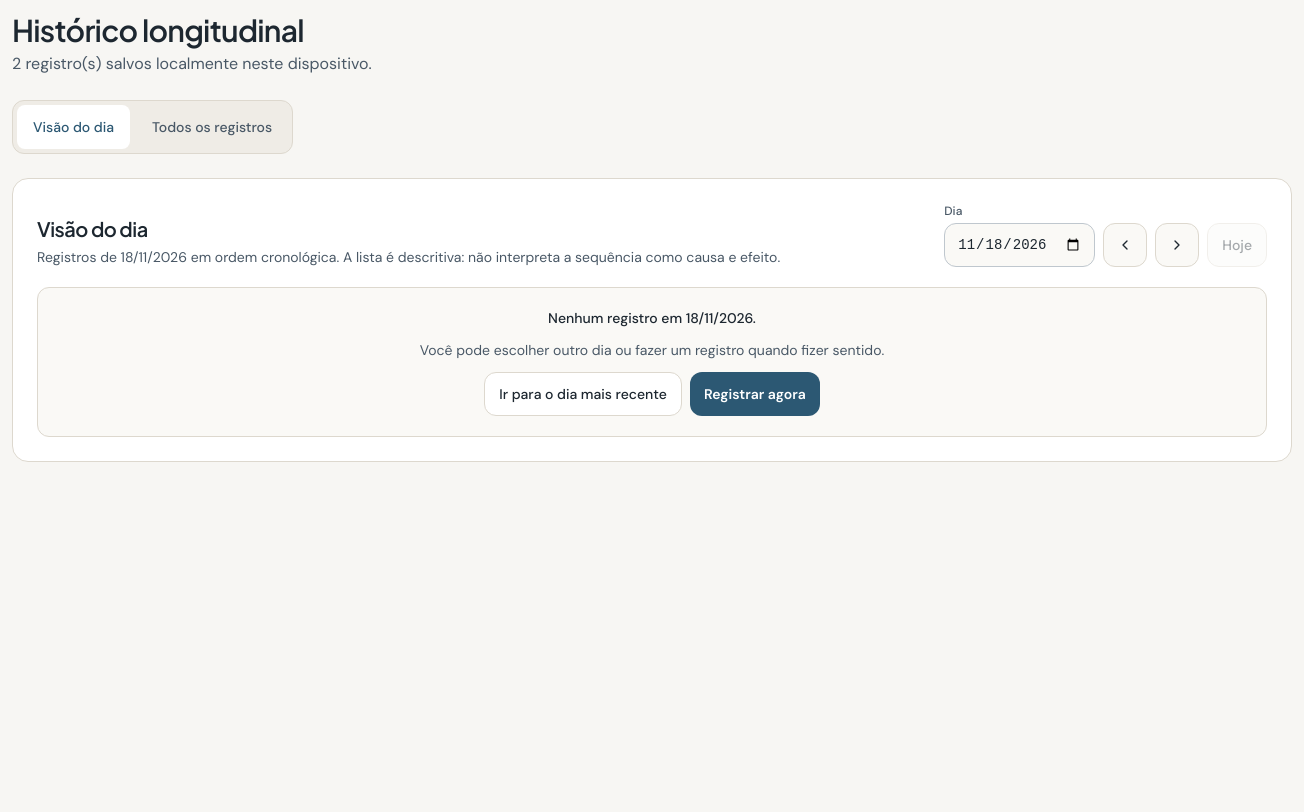
Test: HistoryView — semântica de ação e impulso › filtra somente impulsos que não viraram ação
Click the button "Todos os registros". click: x=212, y=127
box: [136,105,288,149]
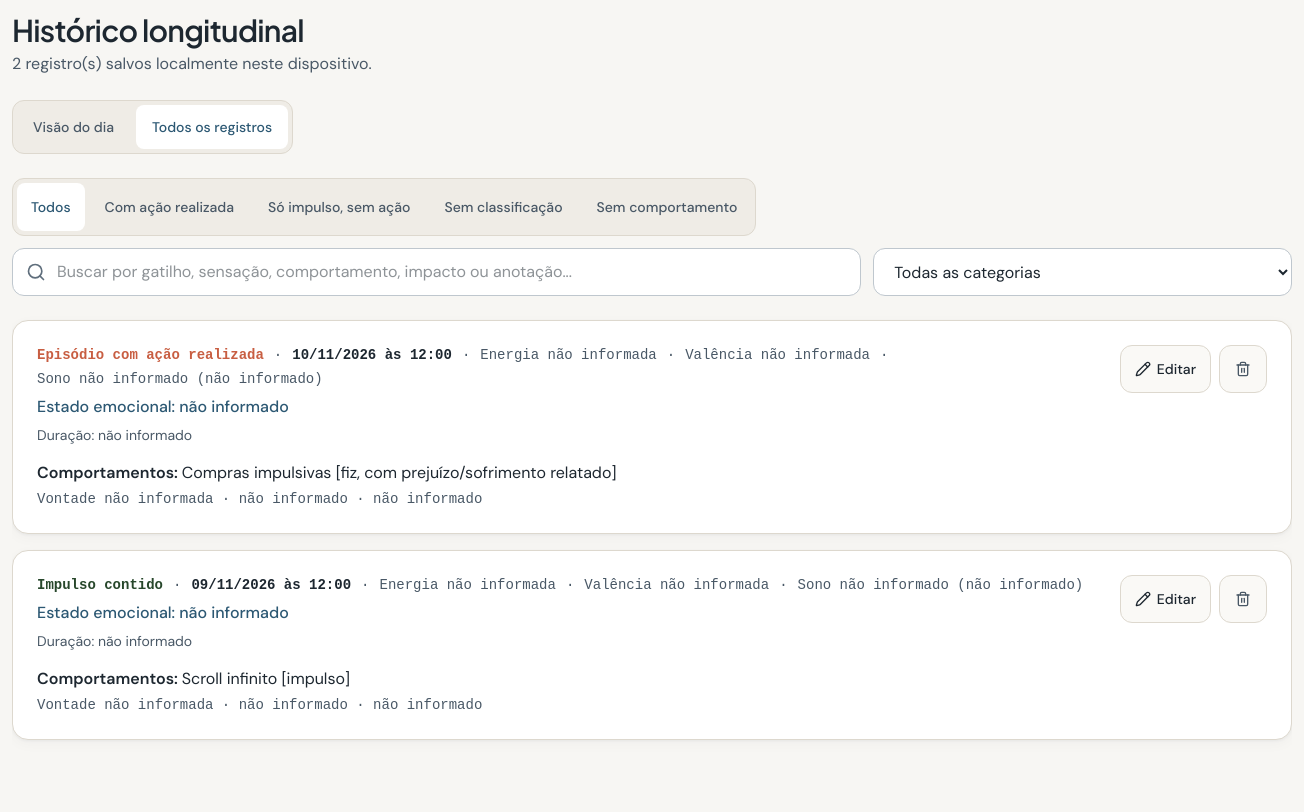
Click the button "Só impulso, sem ação". click: x=339, y=207
box: [254,183,424,231]
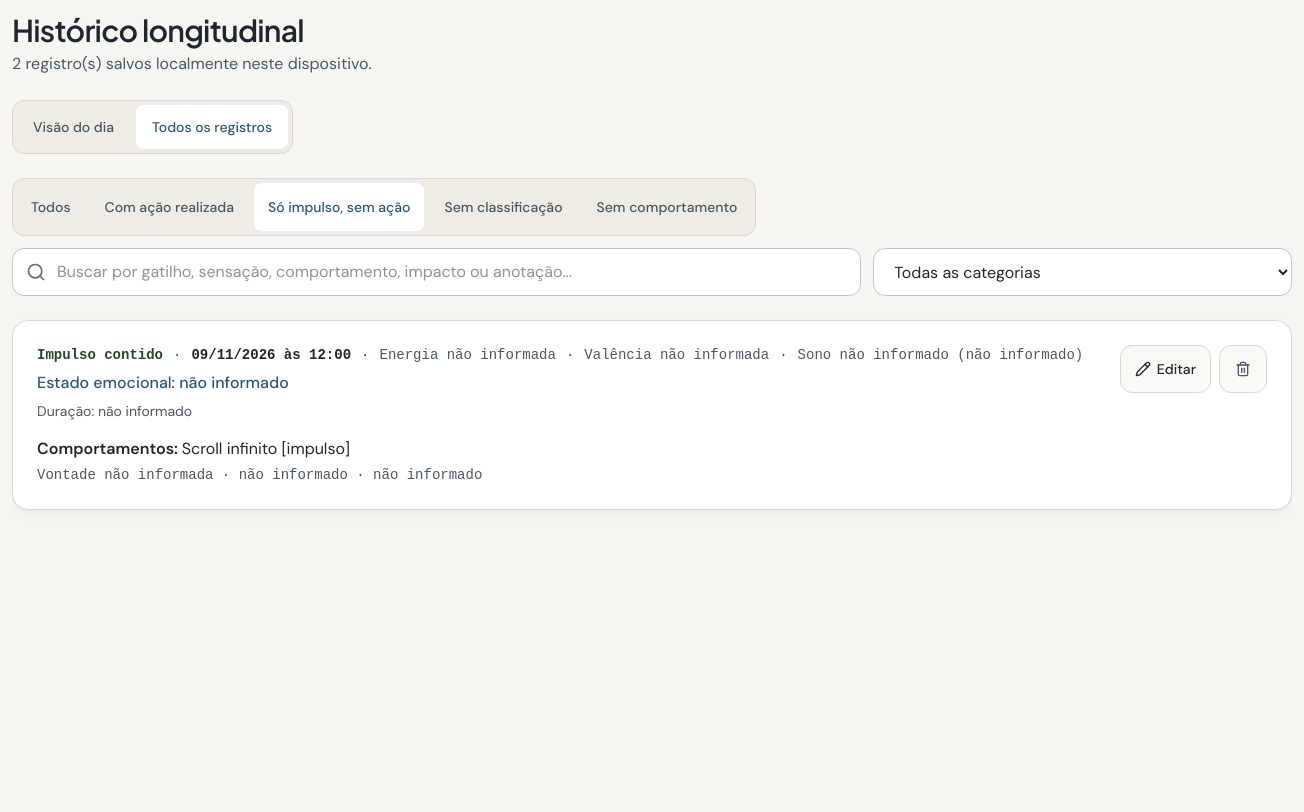
Now the text "Scroll infinito" is shown, box [182,438,350,459]
Now the text "Compras impulsivas" is gone
